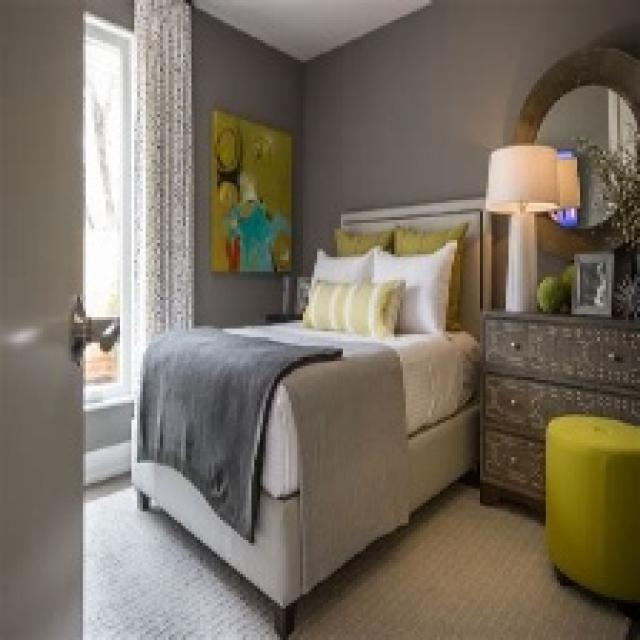Bed: (128, 194, 488, 637)
